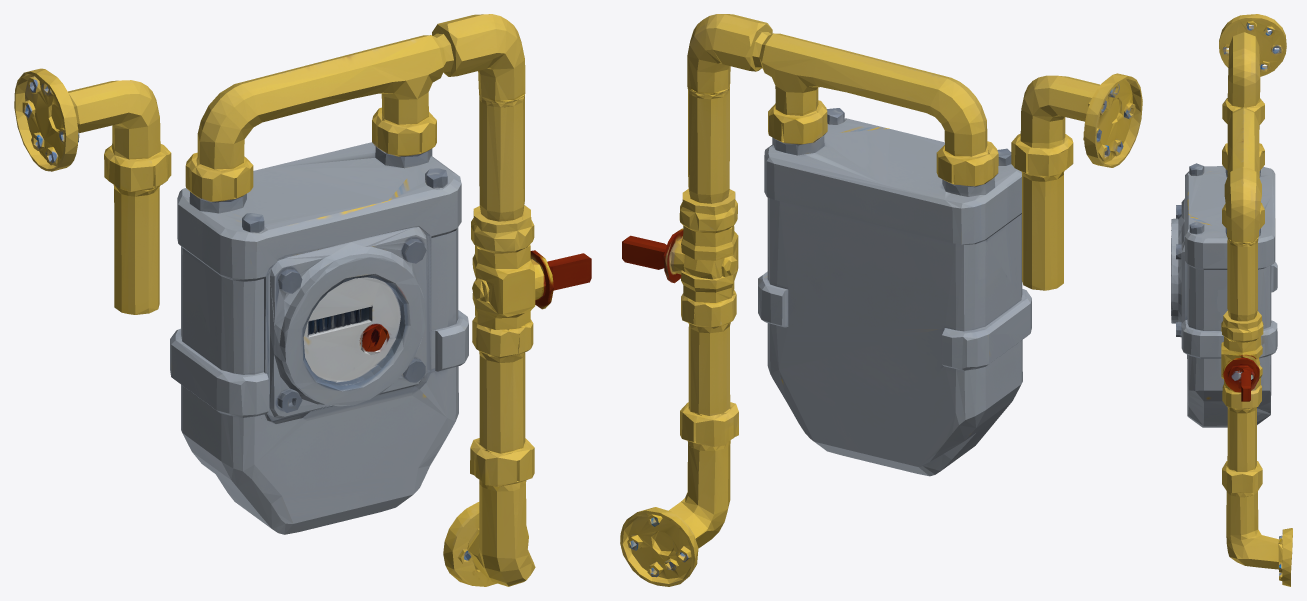
File: gas_meter_pipe.glb
3 renders of one model, left to right at view 1: azimuth 30°, elevation 25°; view 2: azimuth 150°, elevation 25°; view 3: azimuth 270°, elevation 25°, orthographic. The views are drawn at different scales.
Parts seen in each view (by area): view 1: gas_meter_pipe; view 2: gas_meter_pipe; view 3: gas_meter_pipe.
Boxes of the visible parts, x1,y1,x2,y2 form: gas_meter_pipe: (14, 14, 591, 586); gas_meter_pipe: (620, 14, 1142, 586); gas_meter_pipe: (1171, 14, 1292, 586).
Bounding box in the file's own units: 0.5308 × 0.6 × 0.158.
1 material, 1 textured.
